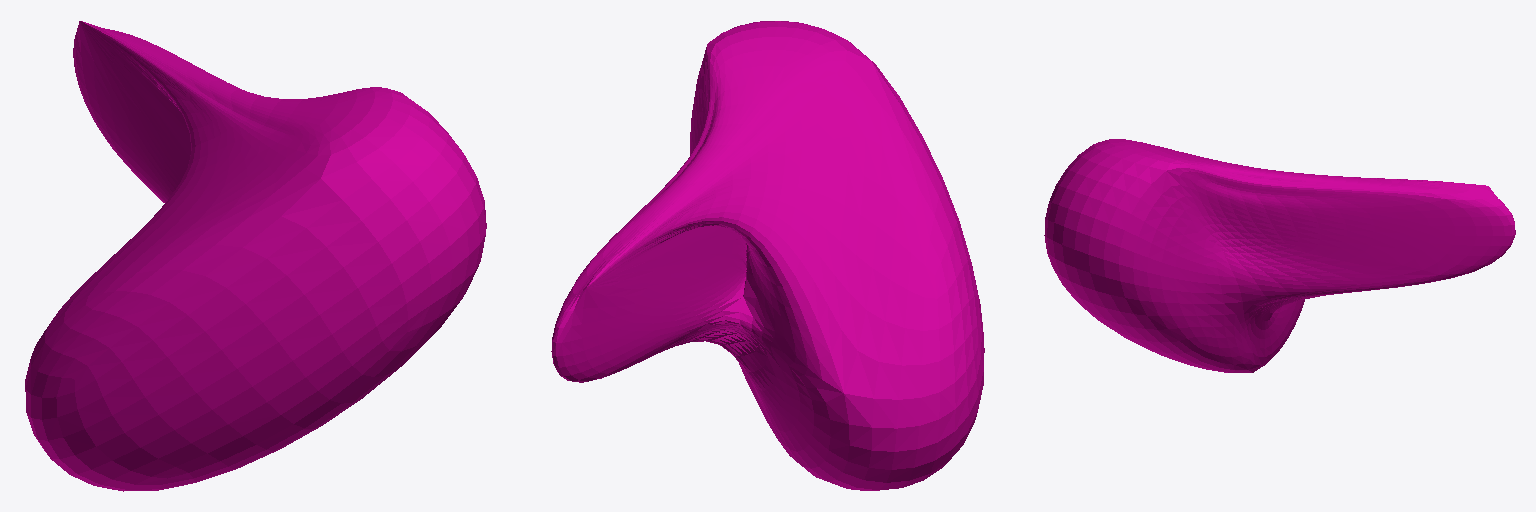
URDF robot description (blob579):

<robot name="blob579">
  <link name="random_obj_579">
    <contact>
      <lateral_friction value="1.0"/>
      <rolling_friction value="0.0"/>
      <inertia_scaling value="3.0"/>
      <contact_cfm value="0.0"/>
      <contact_erp value="1.0"/>
    </contact>
    <inertial>
      <origin rpy="0 0 0" xyz="0 0 0"/>
      <mass value="0.0249"/>
      <inertia ixx="1" ixy="0" ixz="0" iyy="1" iyz="0" izz="0"/>
    </inertial>
    <visual>
      <origin rpy="0 0 0" xyz="0 0 0"/>
      <geometry>
        <mesh filename="579.obj" scale="0.0064 0.0064 0.0064"/>
      </geometry>
      <material name="blockmat">
        <color rgba="0.82 0.06 0.63 1"/>
      </material>
    </visual>
    <collision>
      <origin rpy="0 0 0" xyz="0 0 0"/>
      <geometry>
        <mesh filename="579_coll.obj" scale="0.0064 0.0064 0.0064"/>
      </geometry>
    </collision>
  </link>
</robot>

--- Facts derived from the render (not from the file) ---
Views: 3 orthographic renders of the robot side by side, from view 1: azimuth 30°, elevation 25°; view 2: azimuth 150°, elevation 25°; view 3: azimuth 270°, elevation 25°.
Model blob579 with 1 links and 0 joints (none), rooted at random_obj_579, posed all joints at 0.
Visible links, largest first — view 1: random_obj_579; view 2: random_obj_579; view 3: random_obj_579.
Boxes of the visible links, x1=… form: random_obj_579: x1=25, y1=21, x2=486, y2=491; random_obj_579: x1=551, y1=21, x2=984, y2=490; random_obj_579: x1=1044, y1=139, x2=1515, y2=372.
Bounding box of the posed robot: 0.0545 × 0.0868 × 0.0552 m (x, y, z).
1 mesh visuals loaded from 1 distinct referenced files (1 OBJ).
